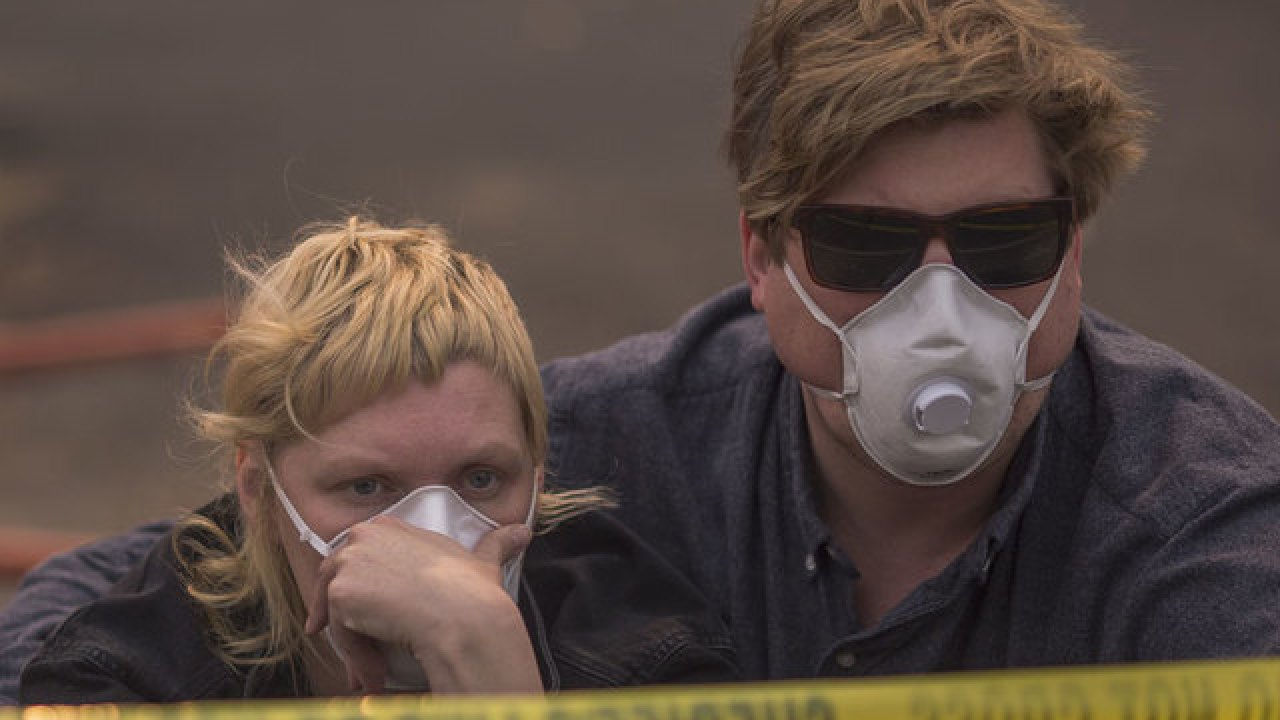n95: (813, 261, 1048, 489)
